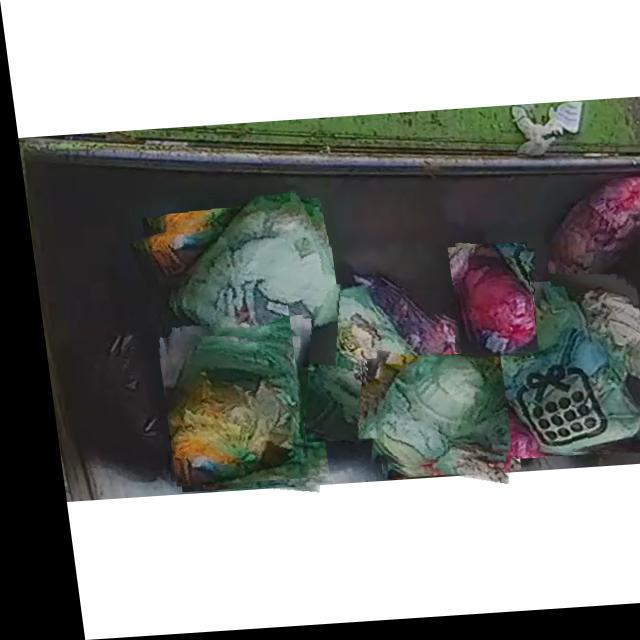general_trashbag: (169, 198, 329, 391), (492, 289, 631, 461), (157, 337, 299, 488), (290, 295, 429, 443), (364, 360, 503, 472)
other_trashbag: (539, 187, 640, 292), (450, 251, 526, 361)
